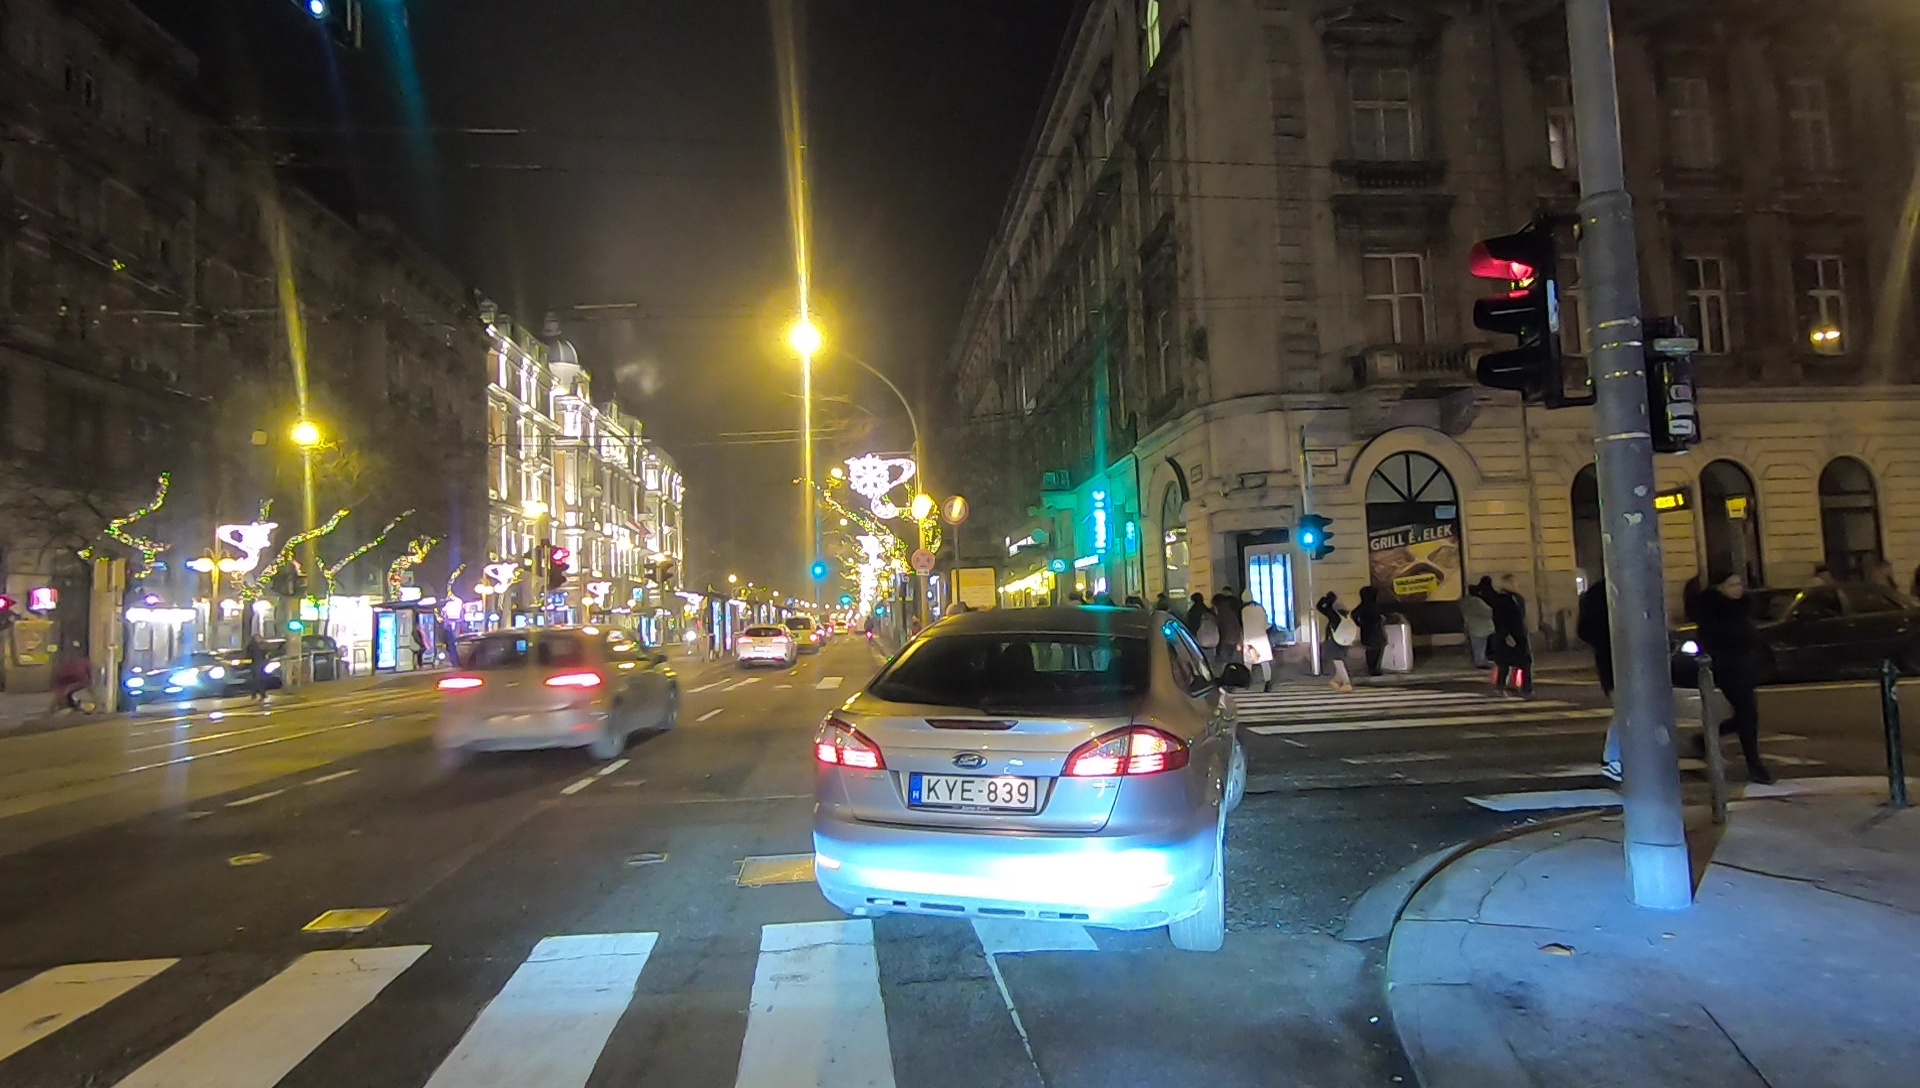person: (1701, 568, 1769, 784), (1494, 575, 1535, 694), (1242, 592, 1276, 691), (1322, 586, 1355, 687), (1455, 591, 1493, 668), (1191, 589, 1223, 681), (1359, 586, 1388, 672), (1222, 589, 1243, 687), (244, 632, 267, 699)
